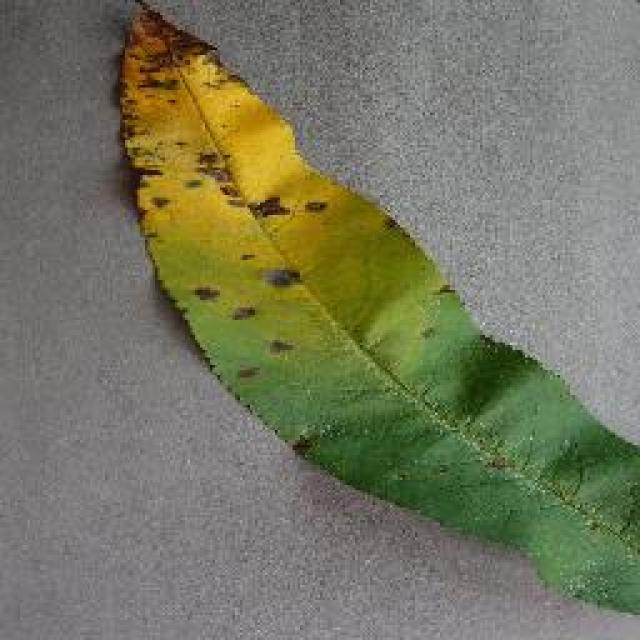Peach_Bacterial_Spot: (82, 40, 440, 372)
